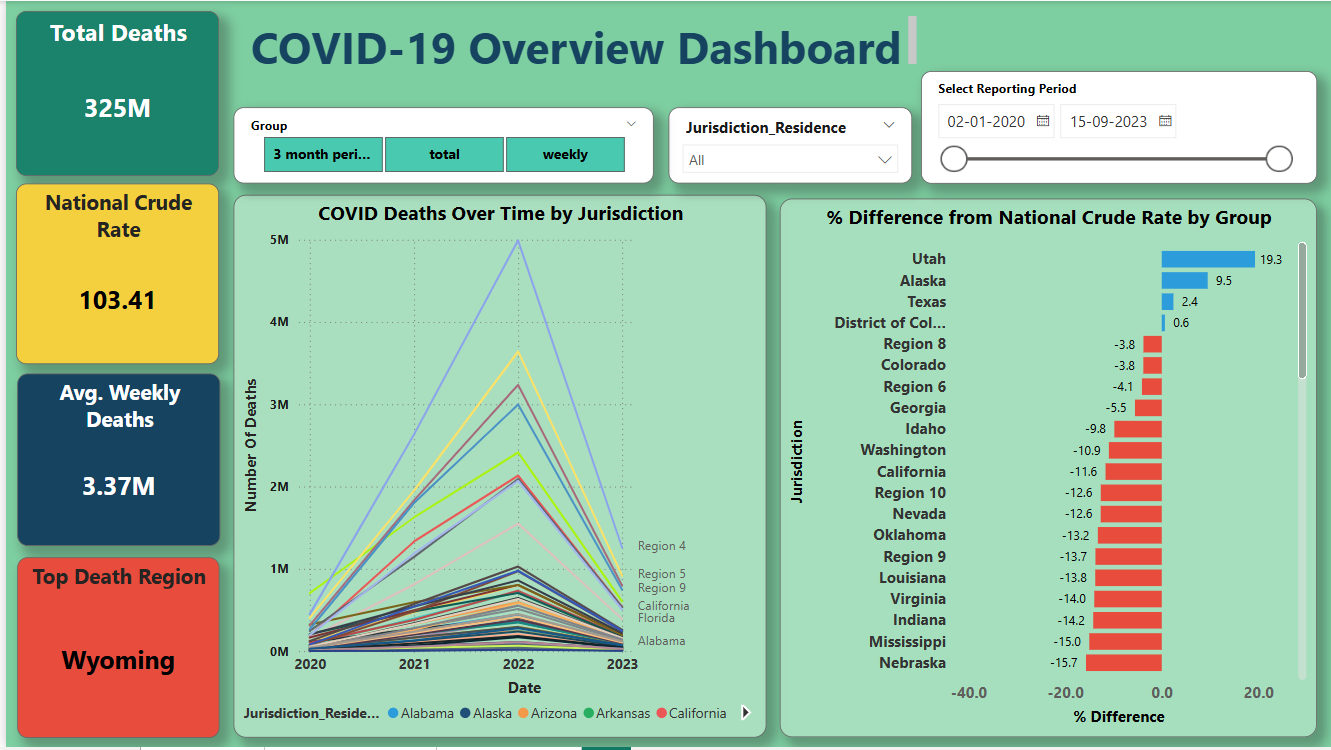

Layout of this report page (visuals, bound fields, positions):
{"tool":"powerbi","page":{"name":"1.Overview","canvas":[1280,720],"ordinal":0},"visuals":[{"type":"card","title":"Total Deaths","fields":{"Values":["DA_Data.Total_Deaths"]},"box":[9.6,9.6,196.2,159.2],"z":1000},{"type":"card","title":"National Crude Rate","fields":{"Values":["DA_Data.National_Crude_Rate"]},"box":[9.6,175.6,196.2,174.3],"z":2000},{"type":"card","title":"Avg. Weekly Deaths","fields":{"Values":["DA_Data.Avg_Weekly_Deaths_Last4"]},"box":[11,359.5,196.2,166],"z":3000},{"type":"card","title":"Top Death Region","fields":{"Values":["DA_Data.Top_Death_Region"]},"box":[11,536.5,194.9,174.3],"z":4000},{"type":"lineChart","title":"COVID Deaths Over Time by Jurisdiction","fields":{"Category":["DA_Data.data_period_end.Variation.Date Hierarchy.Year","DA_Data.data_period_end.Variation.Date Hierarchy.Quarter","DA_Data.data_period_end.Variation.Date Hierarchy.Month","DA_Data.data_period_end.Variation.Date Hierarchy.Day"],"Y":["Sum(DA_Data.COVID_deaths)"],"Series":["DA_Data.Jurisdiction_Residence"]},"box":[219.6,186.6,514.6,524.2],"z":5000},{"type":"clusteredBarChart","title":"% Difference from National Crude Rate by Group","fields":{"Category":["DA_Data.Jurisdiction_Residence"],"Y":["DA_Data.Pct_Diff_From_National"]},"box":[746.5,190.7,518.7,520.1],"z":6000},{"type":"slicer","fields":{"Values":["DA_Data.Jurisdiction_Residence"]},"box":[639.4,102.5,235.3,73.6],"z":7000},{"type":"slicer","fields":{"Values":["DA_Data.Group"]},"box":[219.6,102.5,405.4,73.6],"z":8000},{"type":"slicer","fields":{"Values":["DA_Data.data_period_end"]},"box":[883.1,67.6,382.4,108.6],"z":9000},{"type":"textbox","box":[219.6,9.6,664.2,68.6],"z":10000}]}

Visuals, with their boxes in screenshot pixels (x1, y1, x2, y2), scaled from the page's 1280x720 canvas onto the 1331x750 screenshot:
"Total Deaths" card: <bbox>10, 10, 214, 176</bbox>
"National Crude Rate" card: <bbox>10, 183, 214, 364</bbox>
"Avg. Weekly Deaths" card: <bbox>11, 374, 215, 547</bbox>
"Top Death Region" card: <bbox>11, 559, 214, 740</bbox>
"COVID Deaths Over Time by Jurisdiction" lineChart: <bbox>228, 194, 763, 740</bbox>
"% Difference from National Crude Rate by Group" clusteredBarChart: <bbox>776, 199, 1316, 740</bbox>
slicer - DA_Data.Jurisdiction_Residence: <bbox>665, 107, 910, 183</bbox>
slicer - DA_Data.Group: <bbox>228, 107, 650, 183</bbox>
slicer - DA_Data.data_period_end: <bbox>918, 70, 1316, 184</bbox>
textbox: <bbox>228, 10, 919, 81</bbox>
